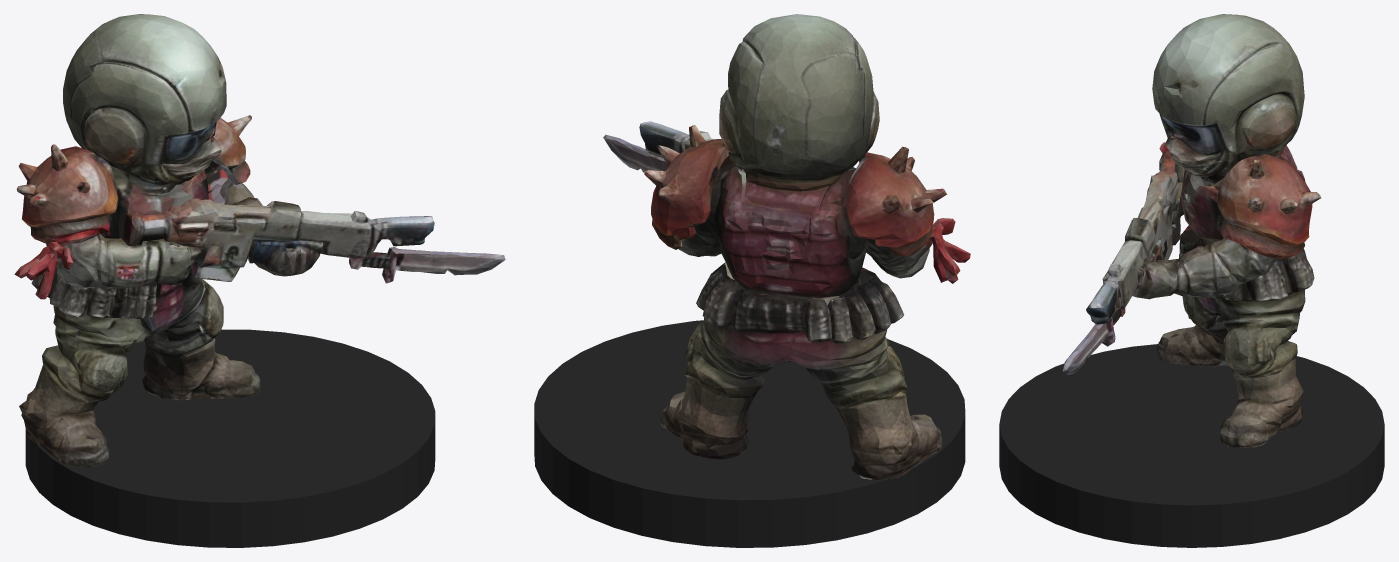
Rendered from bl-trooper.glb.
The picture shows the model from 3 angles, left to right: view 1: azimuth 30°, elevation 25°; view 2: azimuth 150°, elevation 25°; view 3: azimuth 270°, elevation 25°; orthographic projection. The views are drawn at different scales.
Parts seen in each view (by area): view 1: figure, base; view 2: figure, base; view 3: figure, base.
Boxes of the visible parts, x1,y1,x2,y2 form: figure: (14, 14, 505, 467); base: (25, 329, 435, 547); figure: (603, 14, 970, 480); base: (534, 320, 965, 547); figure: (1062, 14, 1321, 447); base: (999, 344, 1384, 547).
Bounding box in the file's own units: 1.14 × 1.17 × 0.9843.
2 materials, 1 textured.
